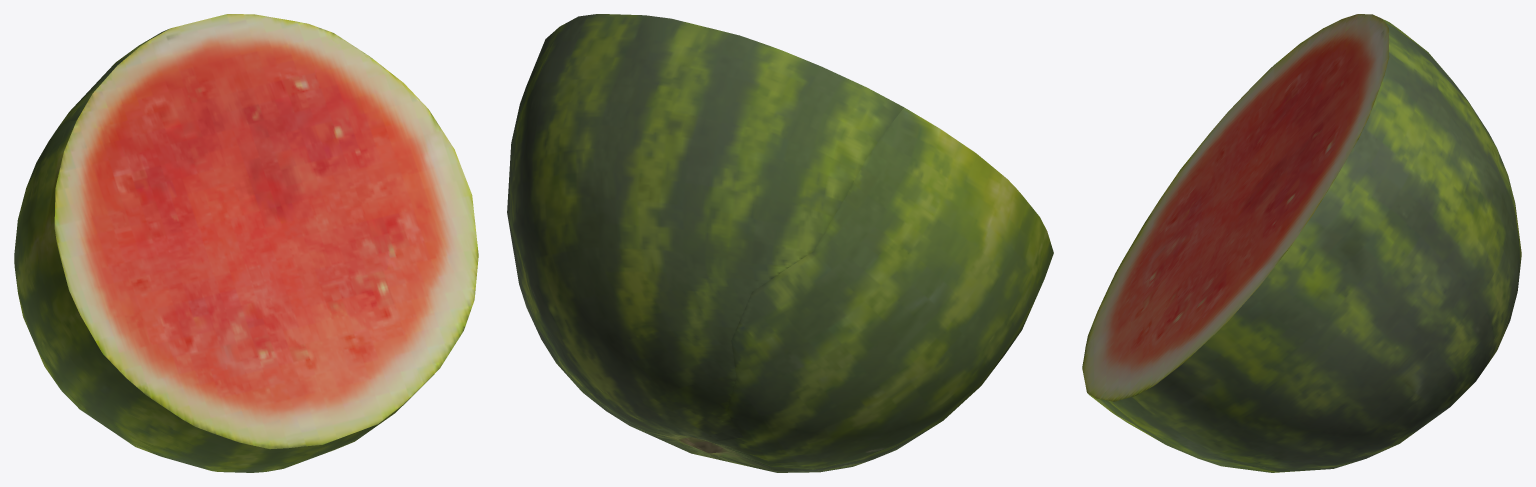
The model's file is ref_watermelonhalf.glb.
3 renders of one model, left to right at view 1: azimuth 30°, elevation 25°; view 2: azimuth 150°, elevation 25°; view 3: azimuth 270°, elevation 25°, orthographic. The views are drawn at different scales.
Visible parts, largest first — view 1: ref_watermelonhalf; view 2: ref_watermelonhalf; view 3: ref_watermelonhalf.
Part boxes in pixels (left/top/right/bottom): ref_watermelonhalf: left=14, top=14, right=478, bottom=472; ref_watermelonhalf: left=507, top=14, right=1053, bottom=472; ref_watermelonhalf: left=1082, top=14, right=1521, bottom=472.
Size of the model in its own units: 1 by 0.917 by 0.8797.
1 material, 1 textured.
